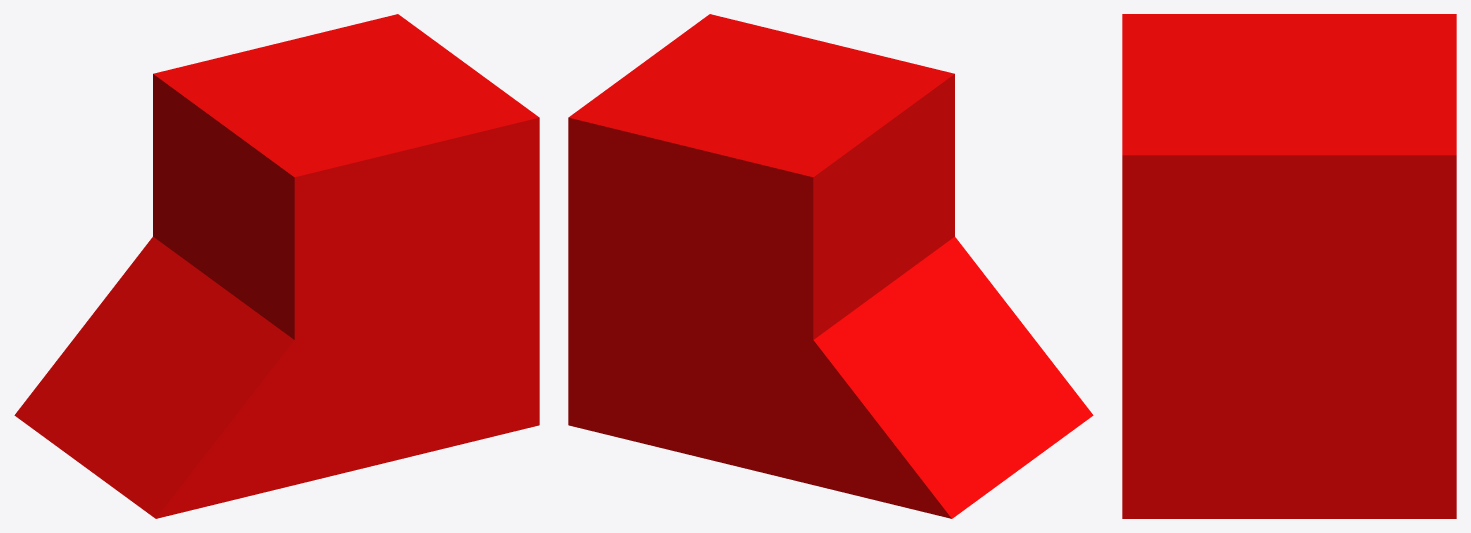
The model's file is angled_thruster_mount.dae.
3 renders of one model, left to right at view 1: azimuth 30°, elevation 25°; view 2: azimuth 150°, elevation 25°; view 3: azimuth 270°, elevation 25°, orthographic. The views are drawn at different scales.
Parts seen in each view (by area): view 1: node_302c0ebb_b81f_4bf2_b52a_1ea00cae2c35_mesh0; view 2: node_302c0ebb_b81f_4bf2_b52a_1ea00cae2c35_mesh0; view 3: node_302c0ebb_b81f_4bf2_b52a_1ea00cae2c35_mesh0.
Boxes of the visible parts, x1,y1,x2,y2 form: node_302c0ebb_b81f_4bf2_b52a_1ea00cae2c35_mesh0: [14, 14, 539, 518]; node_302c0ebb_b81f_4bf2_b52a_1ea00cae2c35_mesh0: [568, 14, 1093, 518]; node_302c0ebb_b81f_4bf2_b52a_1ea00cae2c35_mesh0: [1122, 14, 1456, 518].
Size of the model in its own units: 78.28 by 60 by 50.
